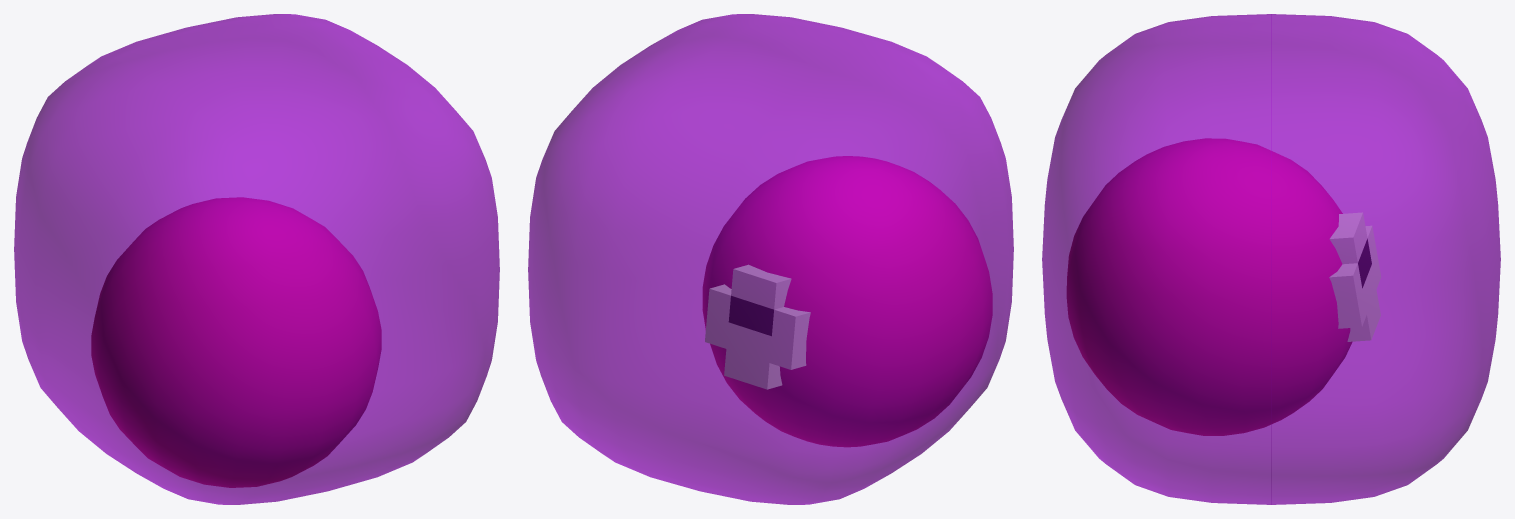
Rendered from br-m-oliveB.fbx.
The picture shows the model from 3 angles, left to right: view 1: azimuth 30°, elevation 25°; view 2: azimuth 150°, elevation 25°; view 3: azimuth 270°, elevation 25°; orthographic projection. The views are drawn at different scales.
Parts seen in each view (by area): view 1: oliveB5, olive; view 2: oliveB5, olive, eye; view 3: oliveB5, olive, eye.
Boxes of the visible parts, box(x1,y1,x2,y2) form: oliveB5: box(14, 14, 499, 504); olive: box(91, 197, 381, 487); oliveB5: box(528, 14, 1013, 504); olive: box(702, 156, 992, 447); eye: box(705, 264, 810, 389); oliveB5: box(1042, 14, 1500, 504); olive: box(1066, 138, 1352, 435); eye: box(1329, 212, 1380, 341).
Size of the model in its own units: 1 by 1 by 1.
